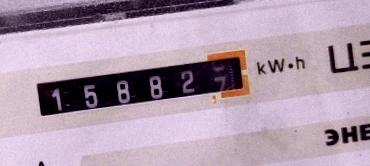1: (48, 83, 65, 113)
2: (178, 66, 197, 96)
5: (80, 80, 101, 109)
7: (211, 72, 228, 91)
8: (112, 76, 132, 106), (146, 71, 164, 101)
screen: (20, 39, 261, 130)
